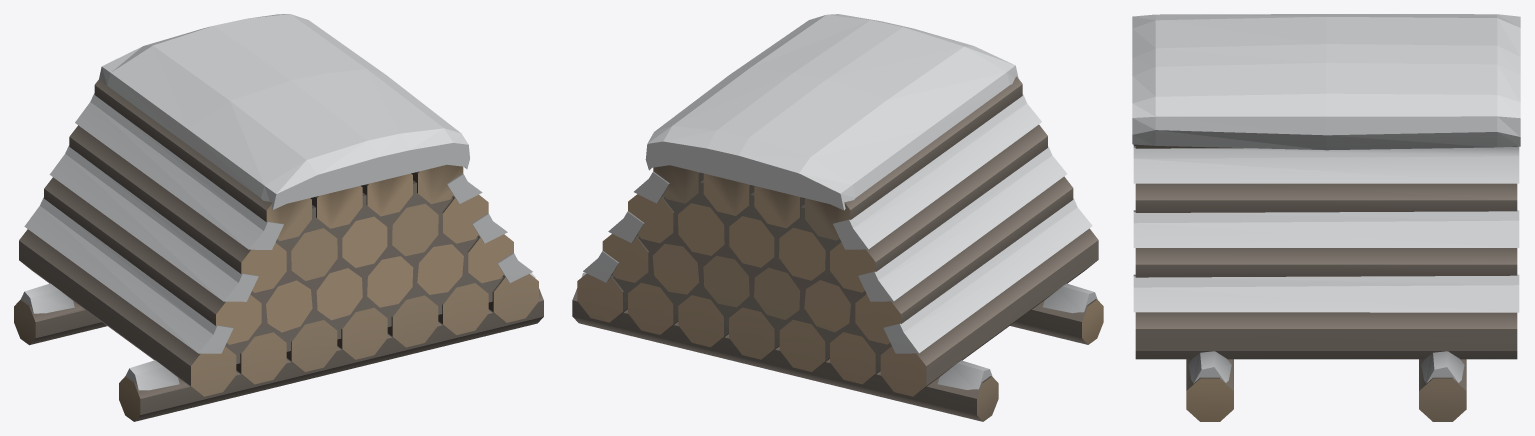
The model's file is logs.glb.
The picture shows the model from 3 angles, left to right: view 1: azimuth 30°, elevation 25°; view 2: azimuth 150°, elevation 25°; view 3: azimuth 270°, elevation 25°; orthographic projection. The views are drawn at different scales.
Visible parts, largest first — view 1: logs; view 2: logs; view 3: logs.
Part boxes in pixels (x1,y1,x2,y2): logs: (14, 14, 543, 421); logs: (572, 14, 1103, 421); logs: (1132, 14, 1520, 421).
Size of the model in its own units: 2 by 1.17 by 1.5.
